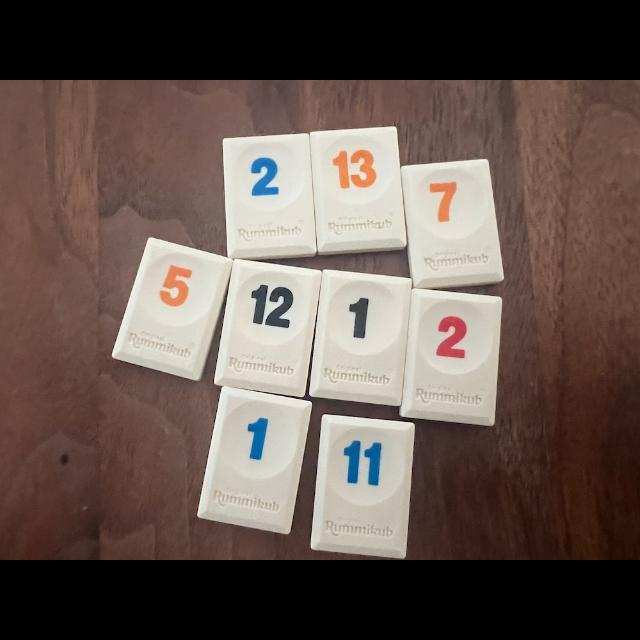black_1: (311, 270, 411, 405)
black_12: (214, 260, 321, 396)
blue_1: (198, 386, 311, 534)
blue_11: (311, 415, 415, 558)
blue_2: (222, 134, 316, 260)
orange_13: (310, 126, 406, 255)
orange_5: (112, 238, 232, 380)
orange_7: (401, 159, 504, 289)
red_2: (400, 289, 501, 425)
